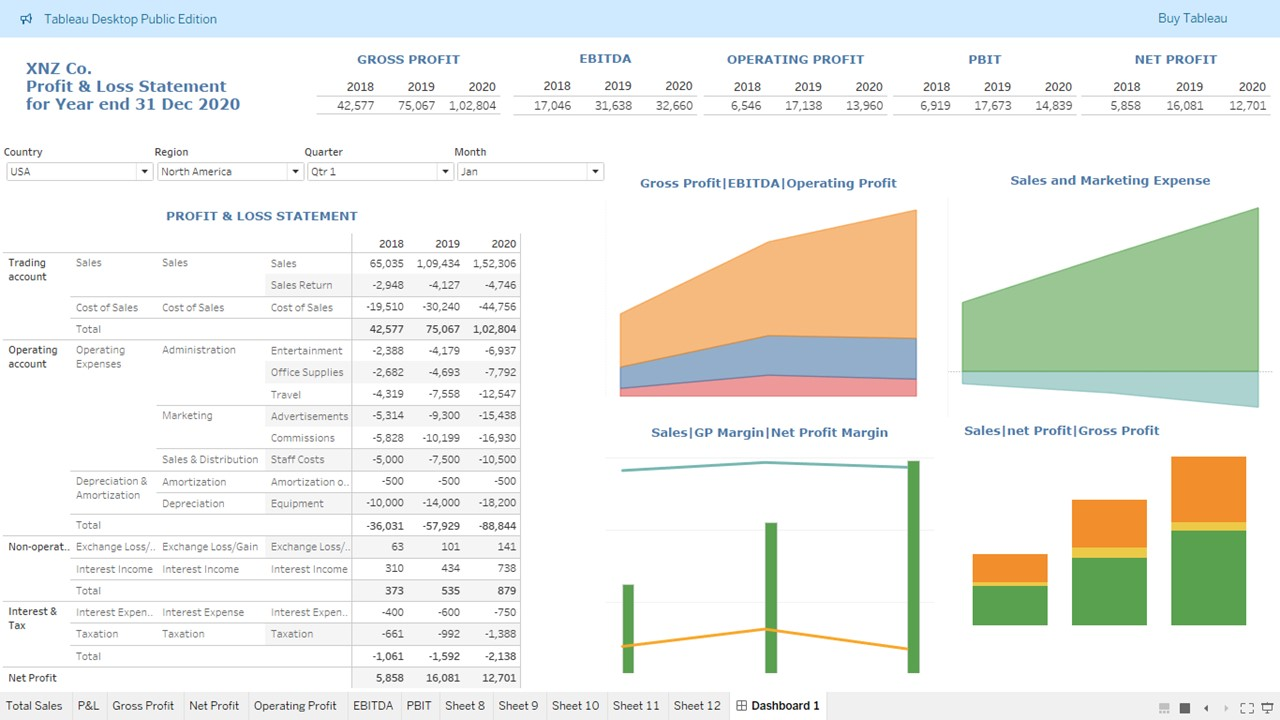

The page's visual inventory and layout, read from the dashboard file:
{"tool":"tableau","page":{"name":"Dashboard 1","canvas":[1000,1000],"units":"permille","ordinal":0},"visuals":[{"type":"title","box":[18.7,3.6,207.5,144.1]},{"type":"worksheet","title":"EBITDA","mark":"Automatic","cols":["Date (Calendar)"],"box":[401.5,14.2,150,142.3]},{"type":"worksheet","title":"Gross Profit","mark":"Automatic","cols":["Date (Calendar)"],"box":[247.8,16,153.7,142.3]},{"type":"worksheet","title":"Operating Profit","mark":"Automatic","cols":["Date (Calendar)"],"box":[550,16,148.5,144.1]},{"type":"worksheet","title":"PBIT","mark":"Automatic","cols":["Date (Calendar)"],"box":[697.8,16,147,172.6]},{"type":"worksheet","title":"Net Profit","mark":"Automatic","cols":["Date (Calendar)"],"box":[844.8,16,153.7,138.8]},{"type":"filter","title":"P&L","param":"[federated.1eqq2k51r41y211ffzjnn1qv825l].[none:Country:nk]","box":[3,163.7,119.4,106.8]},{"type":"filter","title":"P&L","param":"[federated.1eqq2k51r41y211ffzjnn1qv825l].[none:Region:nk]","box":[120.9,163.7,119.4,92.5]},{"type":"filter","title":"P&L","param":"[federated.1eqq2k51r41y211ffzjnn1qv825l].[none:Quarter:nk]","box":[238.1,163.7,119.4,76.5]},{"type":"filter","title":"P&L","param":"[federated.1eqq2k51r41y211ffzjnn1qv825l].[none:Month:nk]","box":[355.2,163.7,119.4,83.6]},{"type":"worksheet","title":"Sheet 10","mark":"Area","cols":["Date (Calendar)"],"box":[740.3,201.1,254.6,379]},{"type":"worksheet","title":"Sheet 9","mark":"Area","cols":["Date (Calendar)"],"box":[472.7,204.6,254.6,343.4]},{"type":"worksheet","title":"P&L","mark":"Automatic","rows":["Class","SubClass","SubClass2","Account"],"cols":["Date (Calendar)"],"box":[2.2,254.5,473.1,740.2]},{"type":"worksheet","title":"Sheet 12","mark":"Bar","cols":["Date (Calendar)","Date (Calendar)","Date (Calendar)"],"box":[750.6,583.6,232.9,314.9]},{"type":"worksheet","title":"Sheet 11","mark":"Automatic","rows":["Calculation_327636875976085504"],"cols":["Date (Calendar)"],"box":[472.7,585.4,257.1,386.1]}]}

Visuals, with their boxes on the dashboard's canvas, which has no fixed pixel size, in thousandths of its width and height (x1, y1, x2, y2). These are canvas units, not pixel positions in the 1280x720 screenshot, which may show the page scaled, cropped or inside an application window:
title: 19/4/226/148
"EBITDA" worksheet: 402/14/552/156
"Gross Profit" worksheet: 248/16/402/158
"Operating Profit" worksheet: 550/16/698/160
"PBIT" worksheet: 698/16/845/189
"Net Profit" worksheet: 845/16/998/155
"P&L" filter: 3/164/122/270
"P&L" filter: 121/164/240/256
"P&L" filter: 238/164/358/240
"P&L" filter: 355/164/475/247
"Sheet 10" worksheet (Area marks): 740/201/995/580
"Sheet 9" worksheet (Area marks): 473/205/727/548
"P&L" worksheet: 2/254/475/995
"Sheet 12" worksheet (Bar marks): 751/584/984/898
"Sheet 11" worksheet: 473/585/730/972
